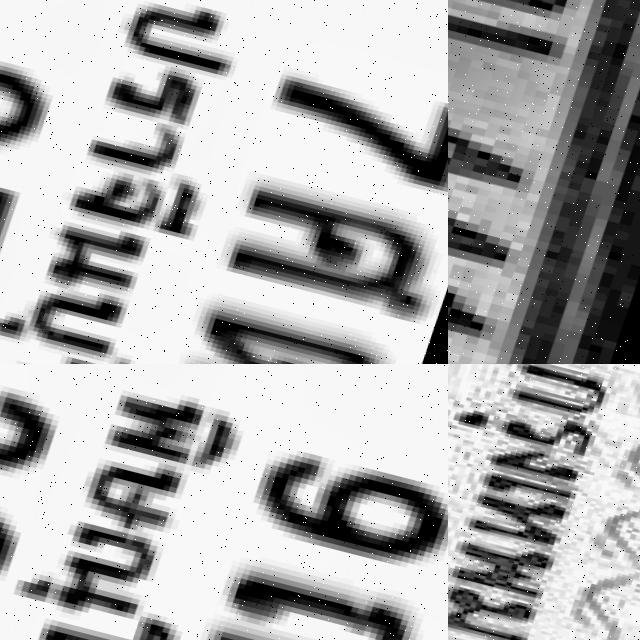license-plate: (0, 0, 448, 364), (0, 364, 448, 640), (448, 0, 640, 364), (448, 364, 640, 640)
